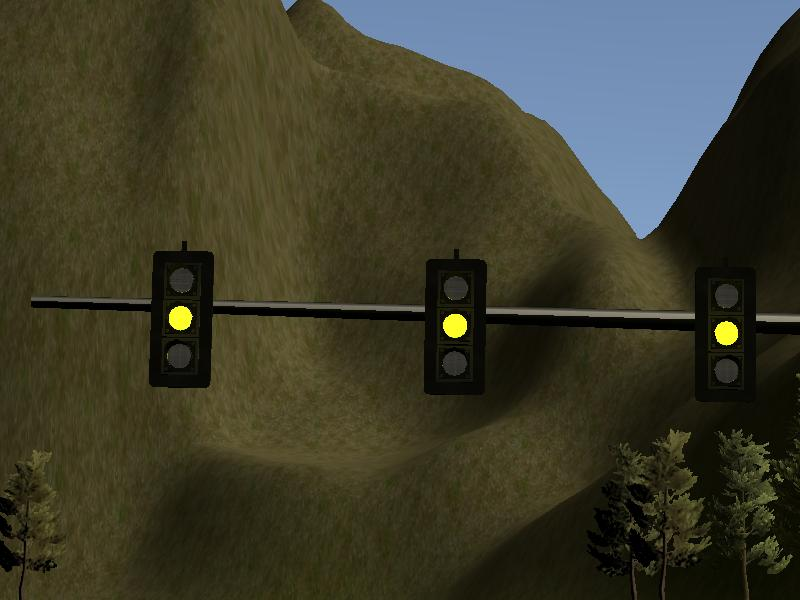yellow: (150, 252, 212, 388), (425, 260, 487, 396)
